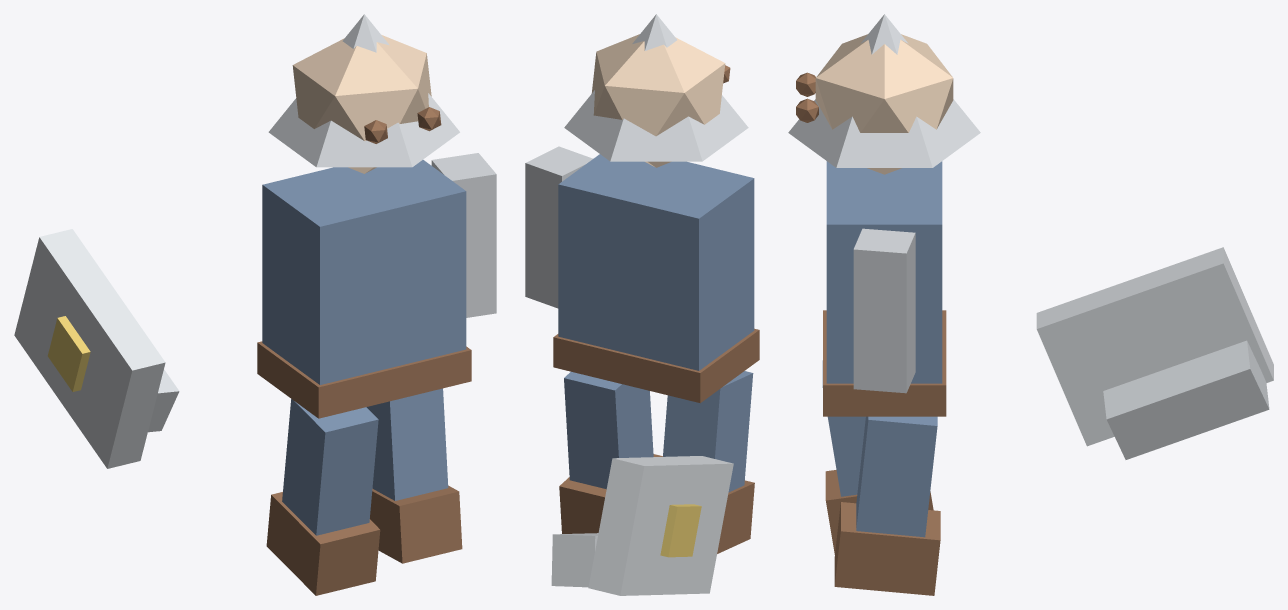
Rendered from npcpose_guard_attack_13.glb.
The picture shows the model from 3 angles, left to right: view 1: azimuth 30°, elevation 25°; view 2: azimuth 150°, elevation 25°; view 3: azimuth 270°, elevation 25°; orthographic projection. The views are drawn at different scales.
Visible parts, largest first — view 1: npcpose; view 2: npcpose; view 3: npcpose.
Boxes of the visible parts, bbox=[...] form: npcpose: bbox=[14, 14, 496, 595]; npcpose: bbox=[525, 14, 759, 595]; npcpose: bbox=[788, 14, 1273, 595].
Size of the model in its own units: 0.8715 by 1.57 by 1.26.
